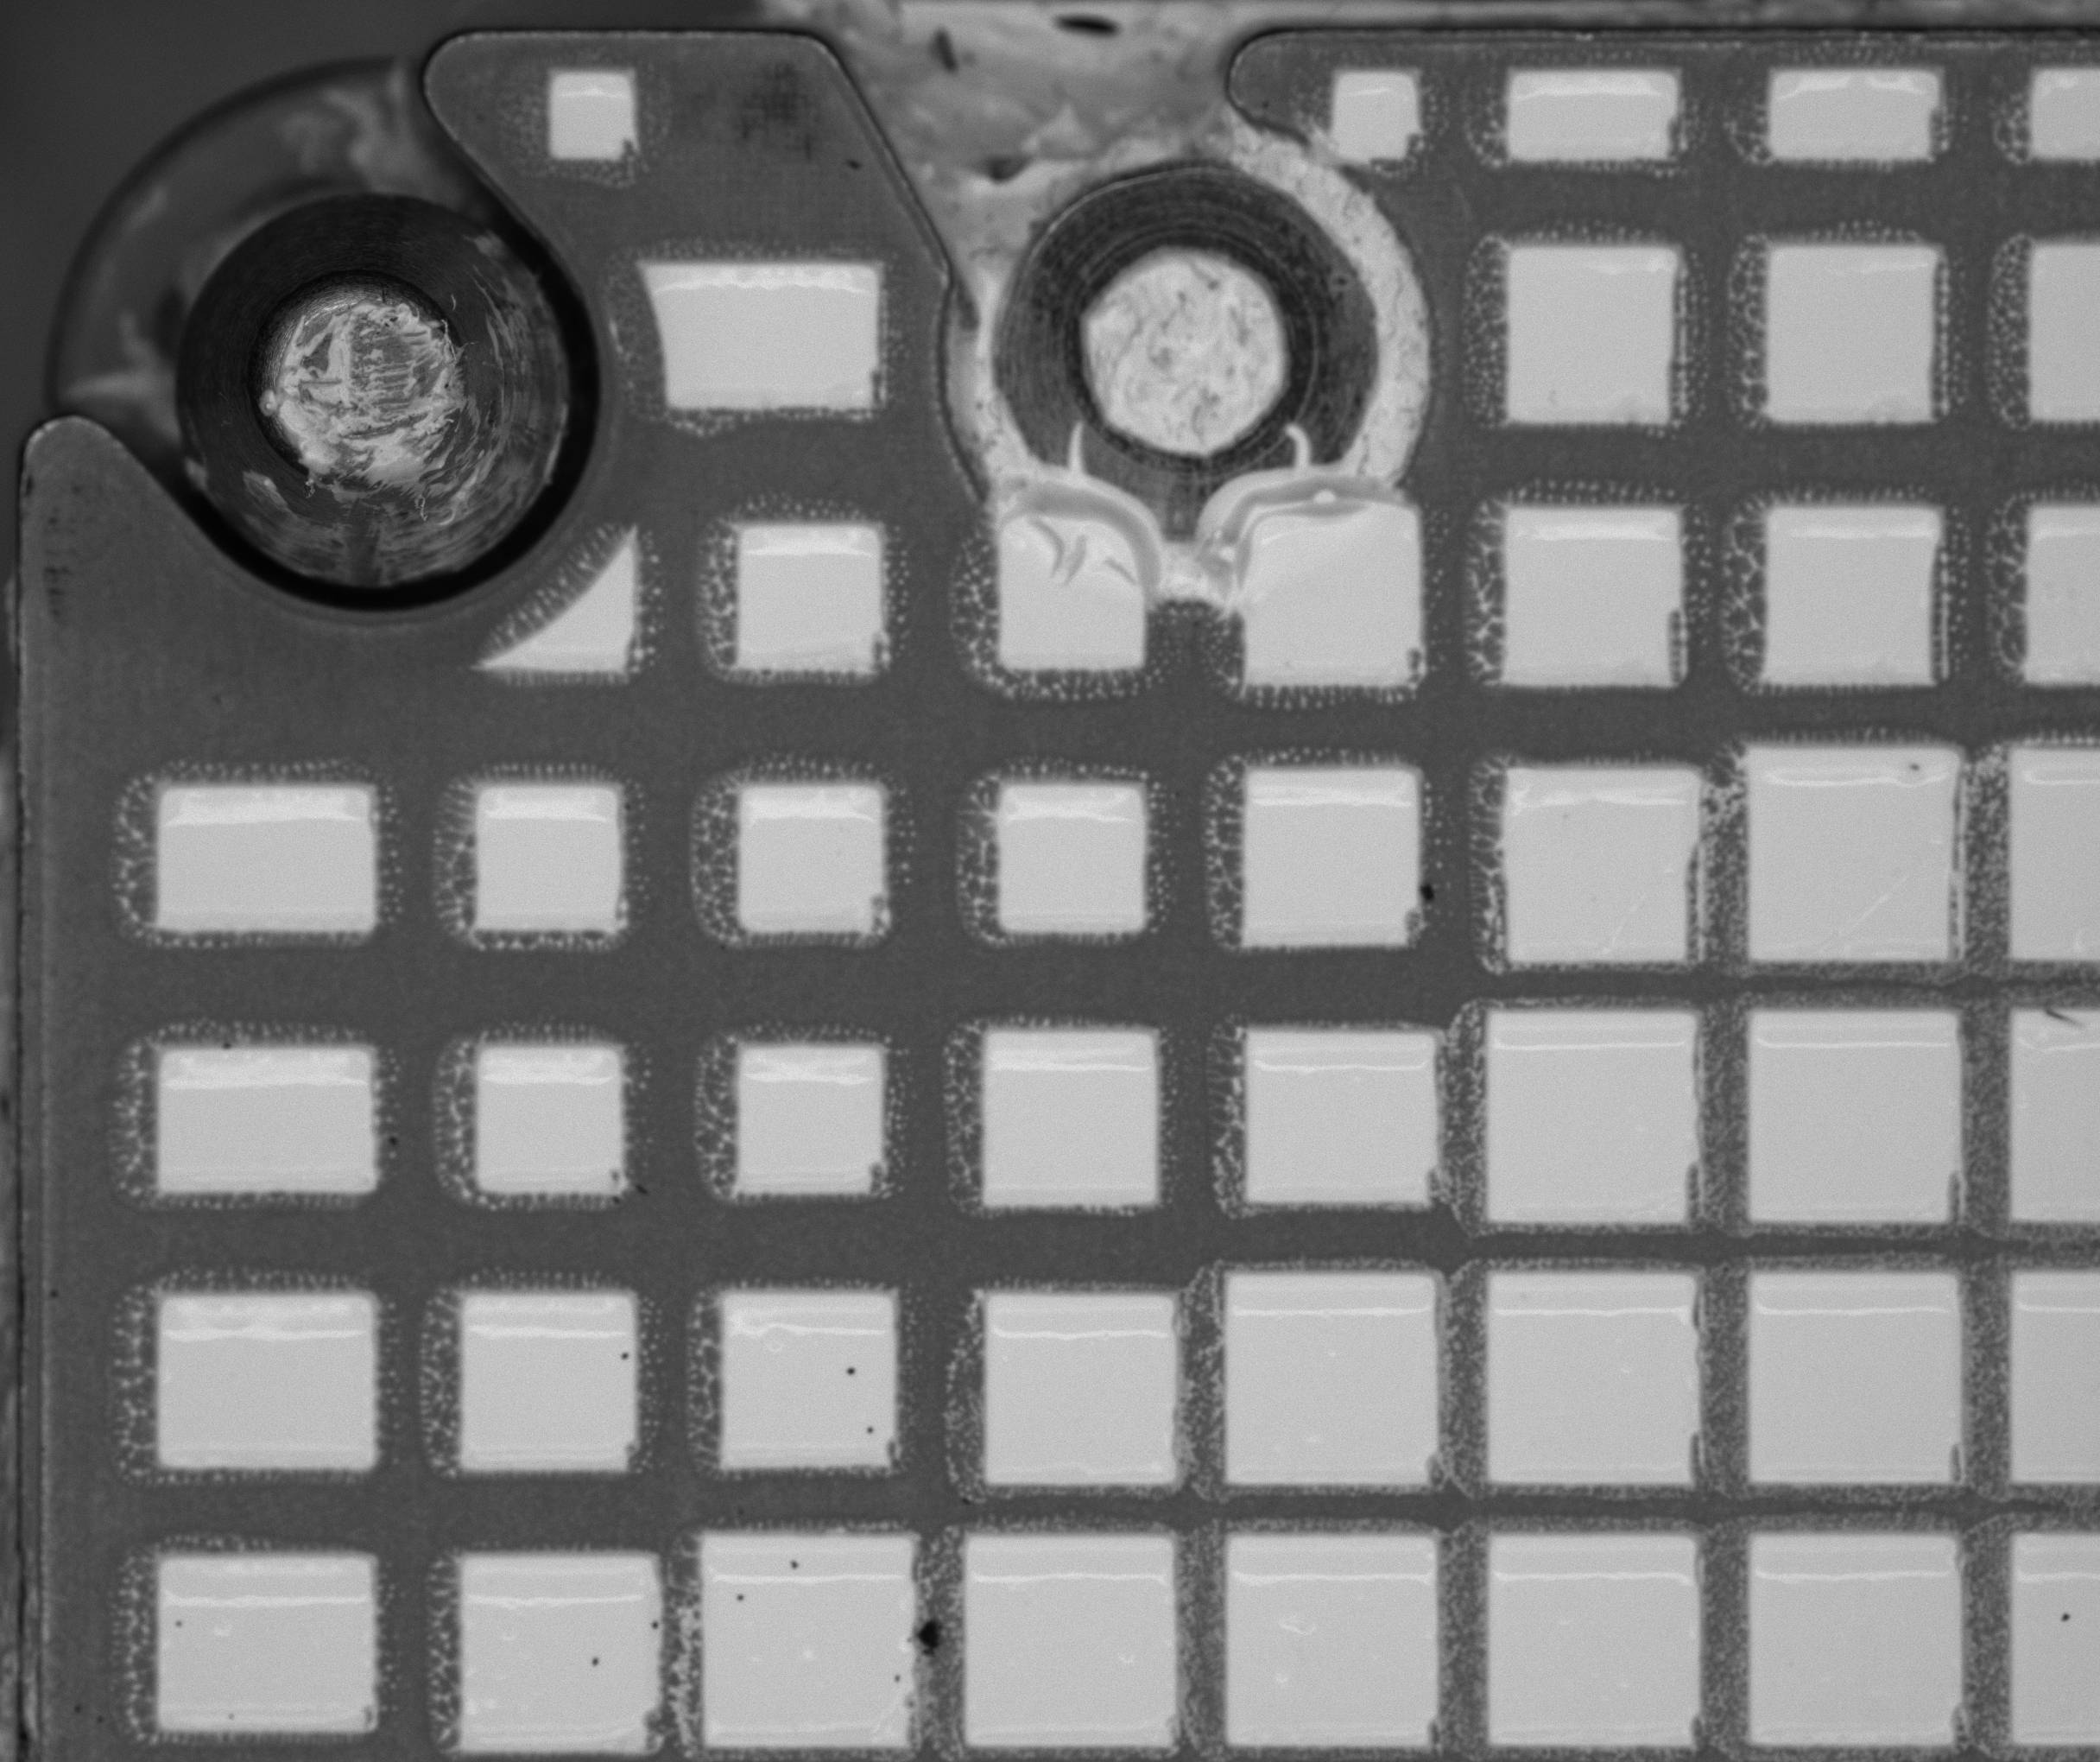spot: (903, 1615, 945, 1659), (1417, 881, 1440, 905), (844, 1365, 858, 1377), (790, 1557, 800, 1571), (591, 1657, 601, 1669)
